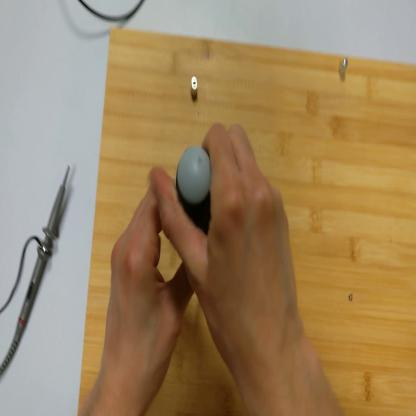hand: (153, 116, 304, 378), (98, 181, 201, 408)
oscilloscope probe tip: (2, 162, 72, 376)
screwdriver-: (177, 138, 214, 243)
working area: (77, 24, 415, 415)
